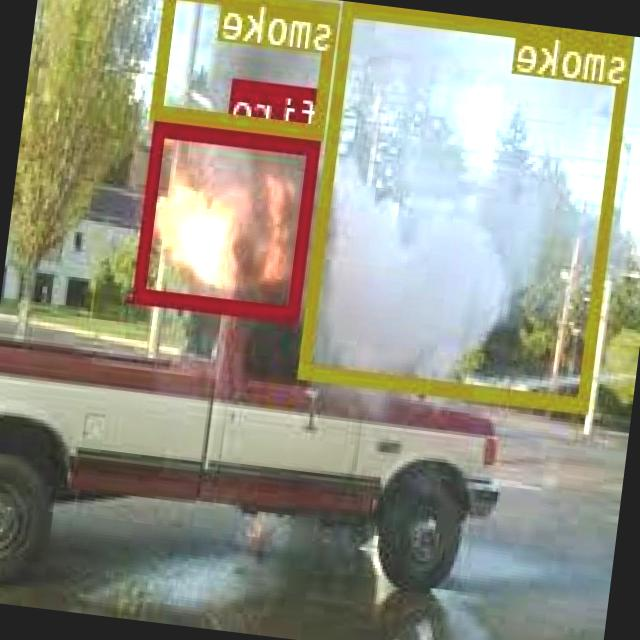fire: (136, 120, 324, 319)
smoke: (299, 1, 637, 408), (153, 0, 341, 136)
